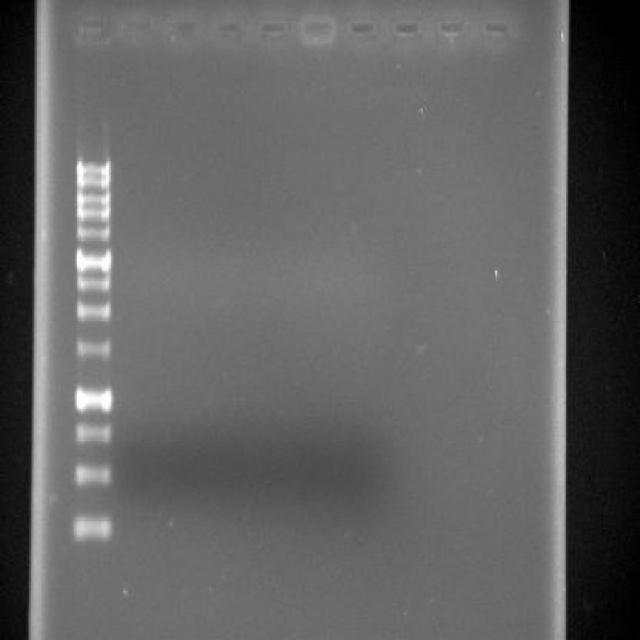L: (62, 0, 524, 65)
M: (66, 114, 120, 558)
P: (69, 380, 114, 414), (71, 512, 114, 546), (70, 458, 112, 488), (70, 334, 113, 362), (71, 420, 114, 446), (70, 246, 113, 272), (70, 300, 112, 323), (72, 156, 114, 175), (72, 276, 112, 293), (70, 226, 112, 242), (74, 207, 112, 222), (74, 192, 114, 206), (73, 176, 113, 189)
Pc: (295, 8, 337, 50), (72, 12, 112, 50), (114, 10, 152, 50), (253, 10, 290, 47), (342, 11, 380, 47), (161, 14, 201, 48), (476, 12, 516, 46), (388, 12, 426, 46), (432, 10, 470, 44), (208, 12, 244, 43)
